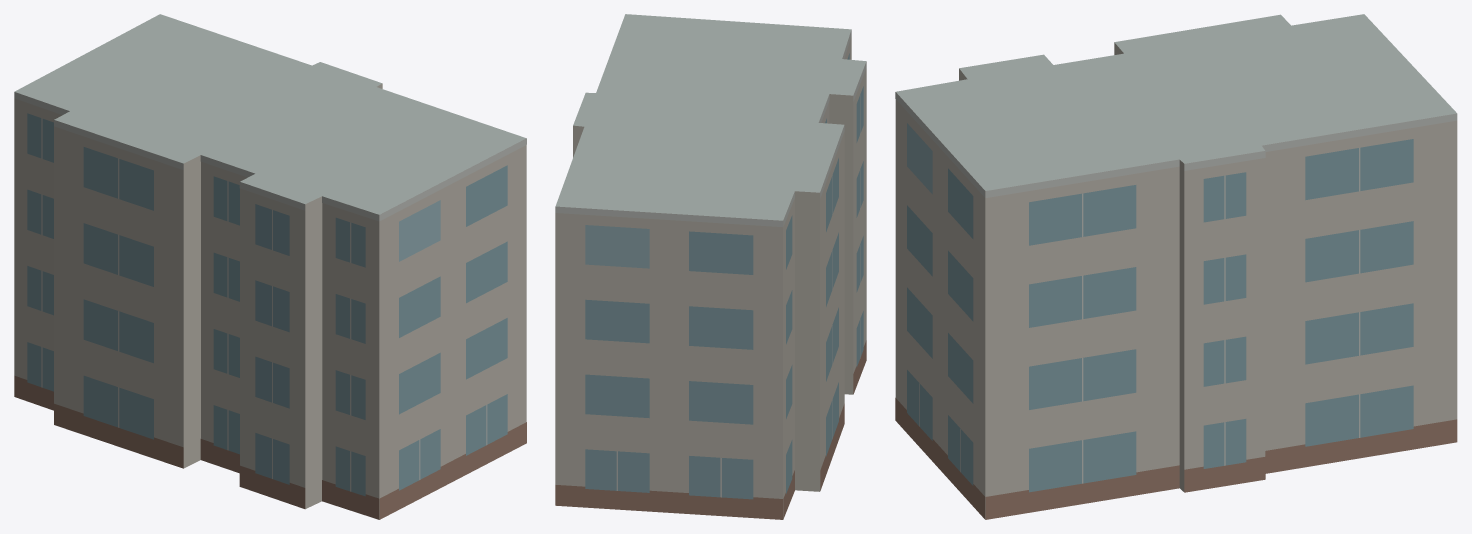
File: survey-upis-33034037.glb
3 views of the same model, side by side, from view 1: azimuth 30°, elevation 25°; view 2: azimuth 150°, elevation 25°; view 3: azimuth 270°, elevation 25° (orthographic). The views are drawn at different scales.
Parts seen in each view (by area): view 1: survey-upis-33034037.tmp; view 2: survey-upis-33034037.tmp; view 3: survey-upis-33034037.tmp.
Boxes of the visible parts, x1,y1,x2,y2 form: survey-upis-33034037.tmp: (14,14,526,519); survey-upis-33034037.tmp: (555,14,866,519); survey-upis-33034037.tmp: (895,14,1457,519).
Bounding box in the file's own units: 13.06 × 11.3 × 17.51.
